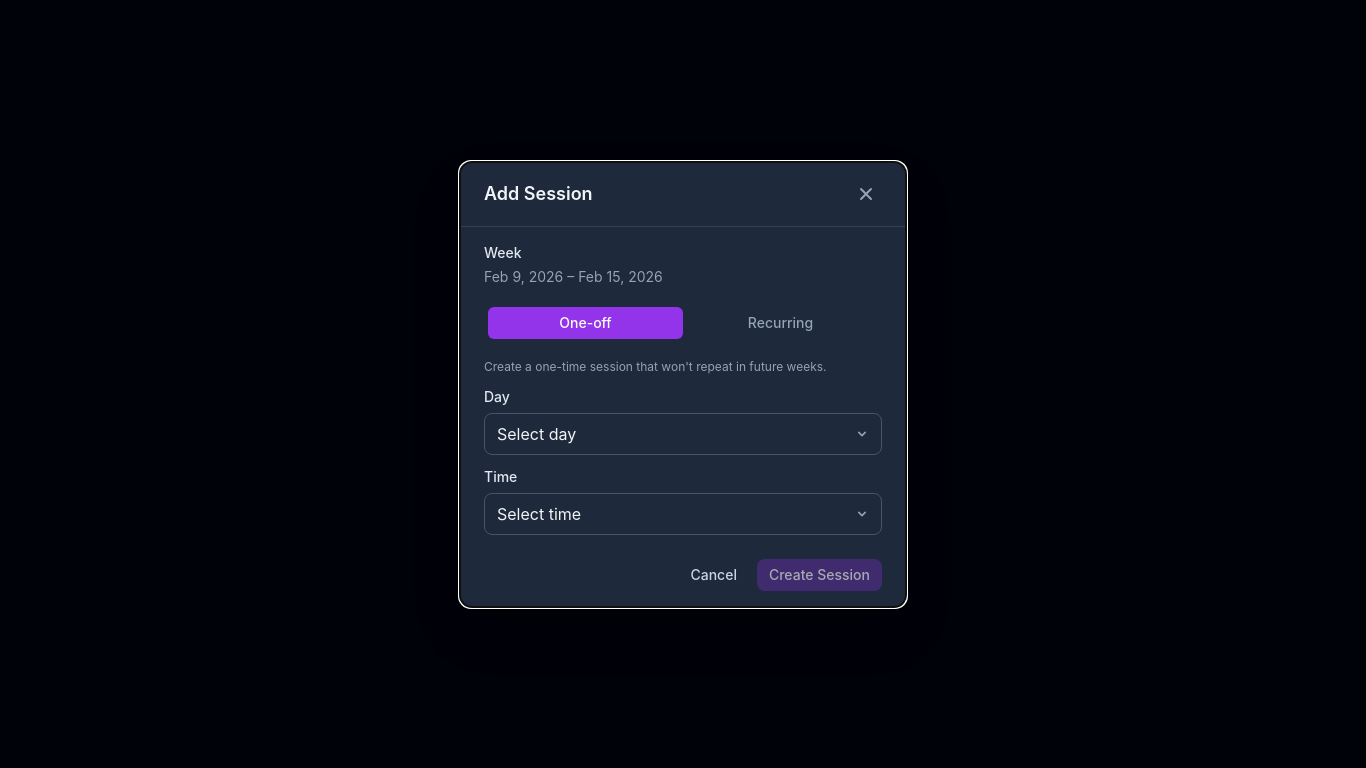
Test case: CreateSessionModal › Tab switching › switching from recurring to one-off resets form selections
// Switch to recurring
Click the tab "Recurring" at (780, 322), box [683,306,878,338]
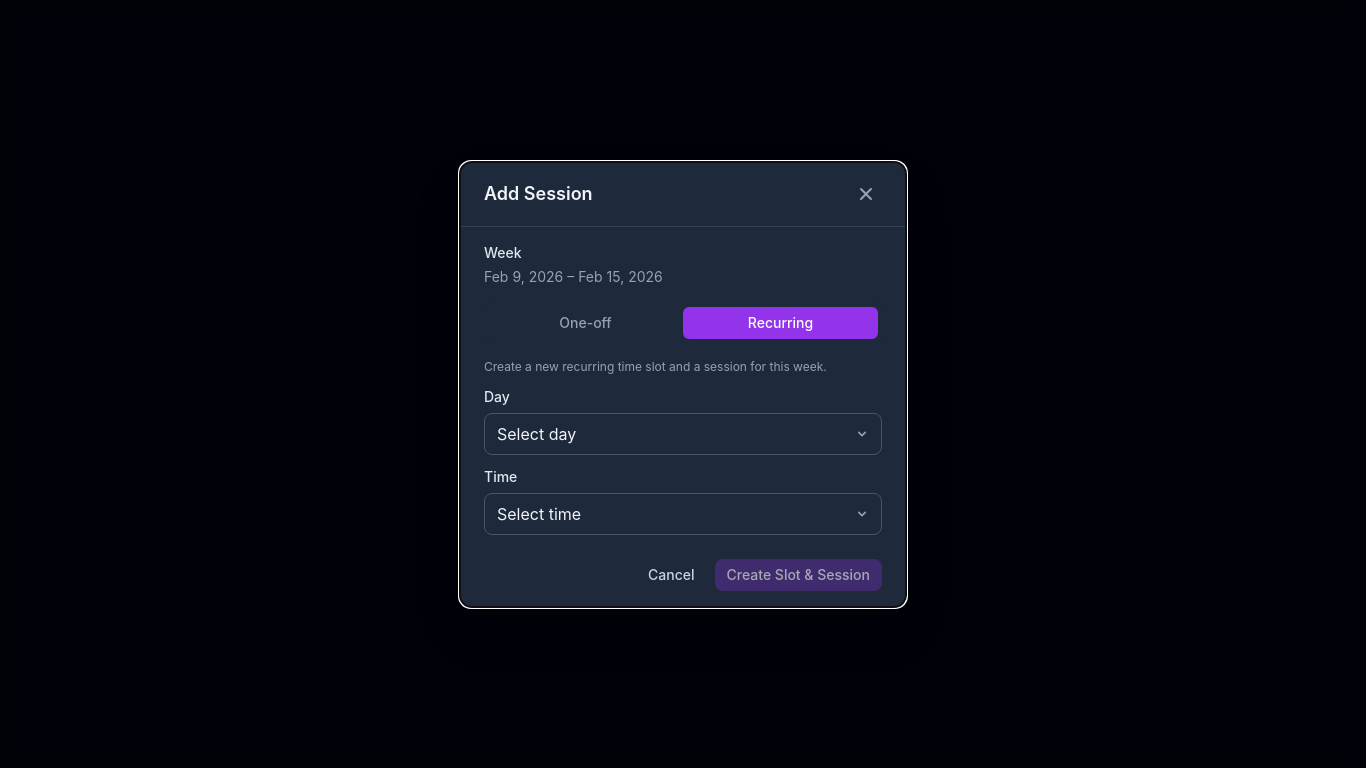
// Select day and hour
Select "Friday" in the dropdown labelled "Day" at (683, 434), box [484,412,882,454]
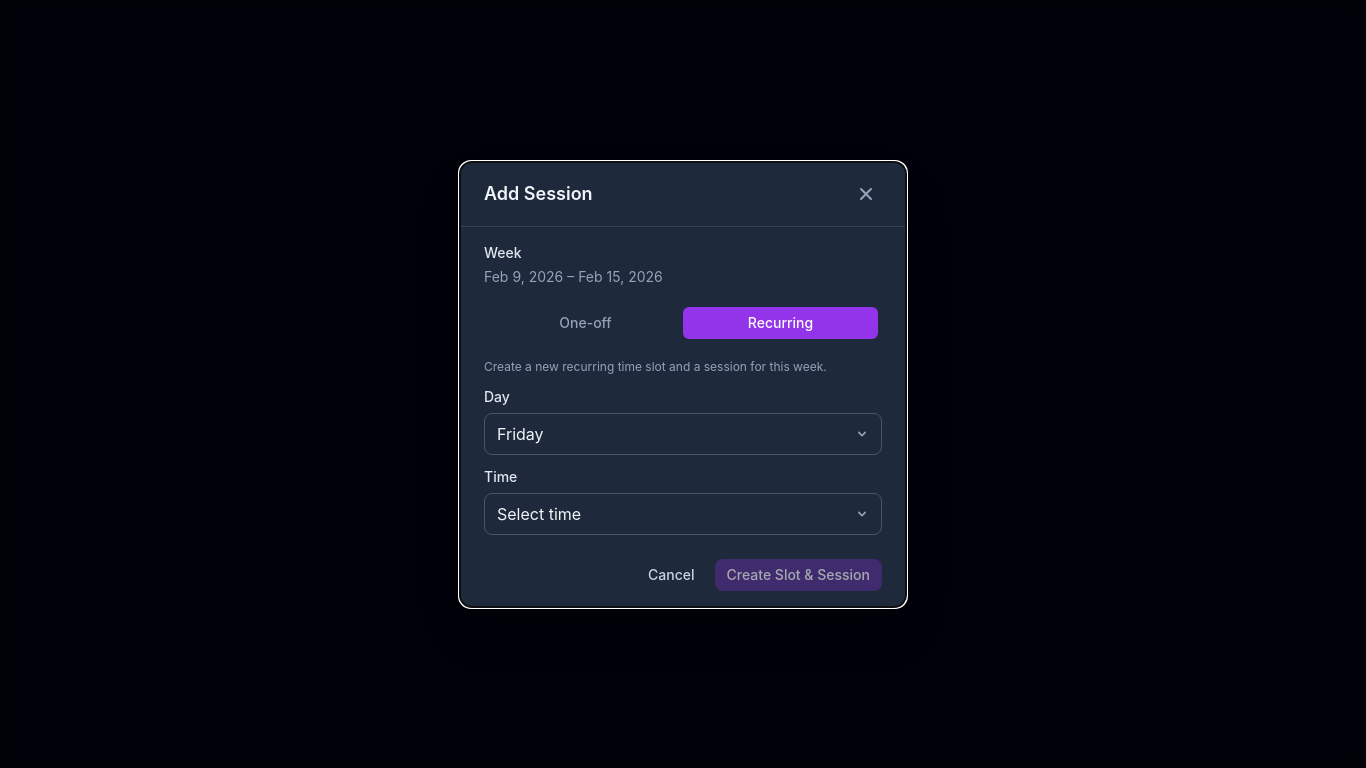
Select "14:00" in the dropdown labelled "Time" at (683, 514), box [484,492,882,534]
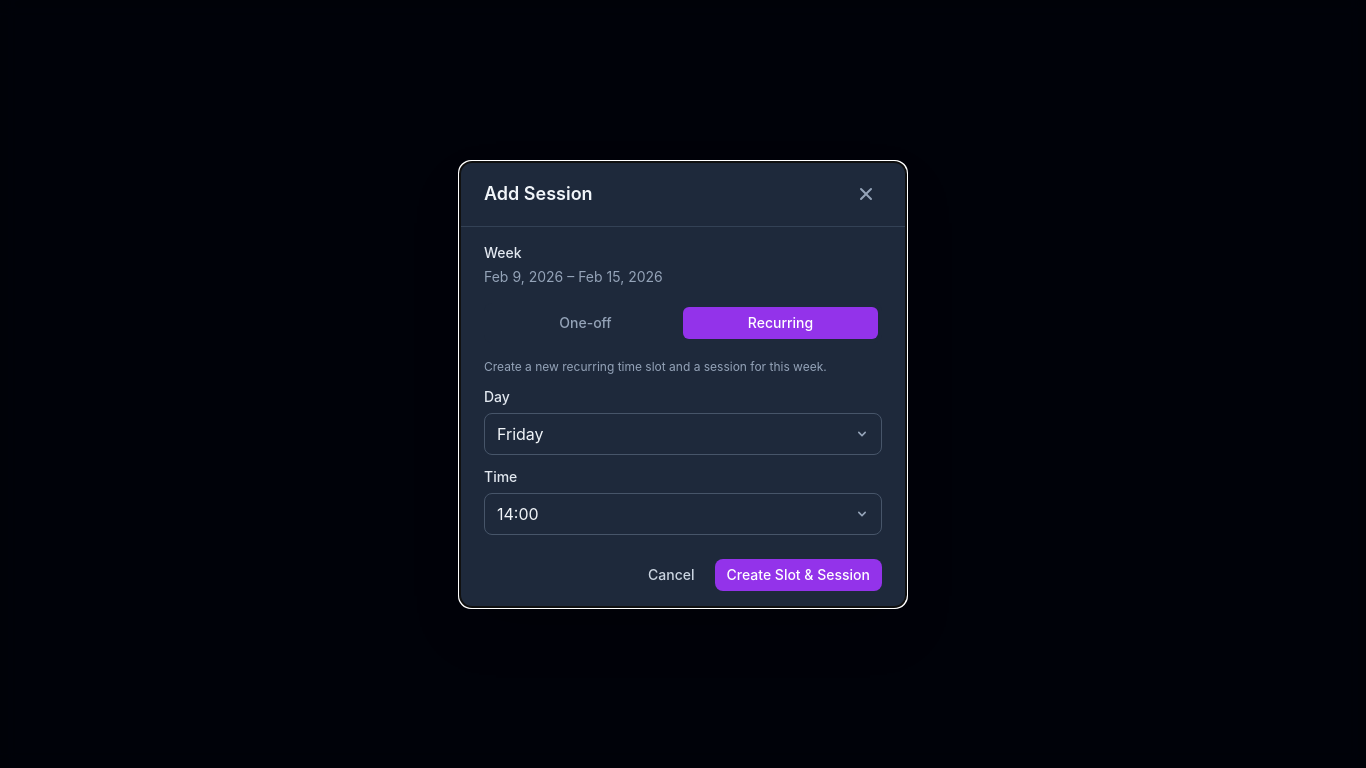
// Switch back to one-off
Click the tab "One-off" at (586, 322), box [488,306,683,338]
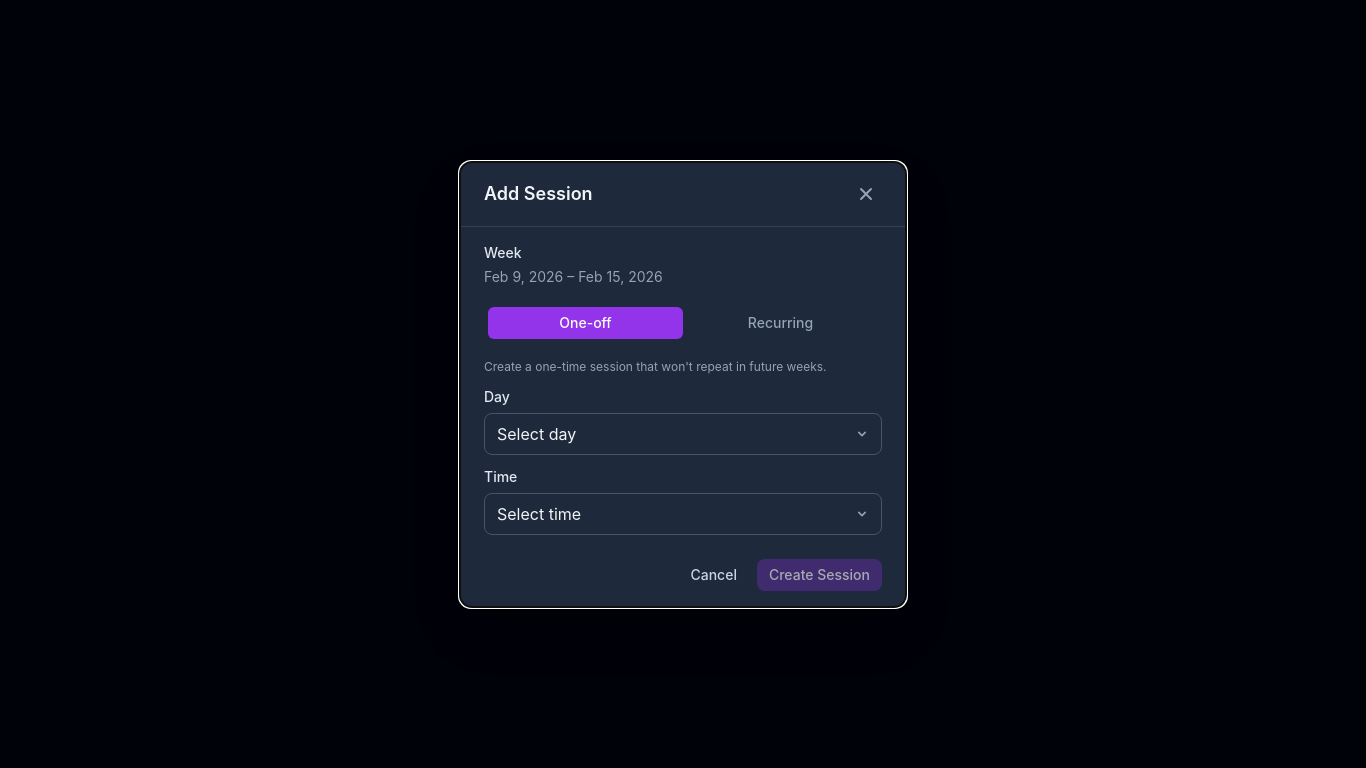
expect the dropdown labelled "Day" shows "Select day": met, box [484,412,882,454]
expect the dropdown labelled "Time" shows "Select time": met, box [484,492,882,534]
